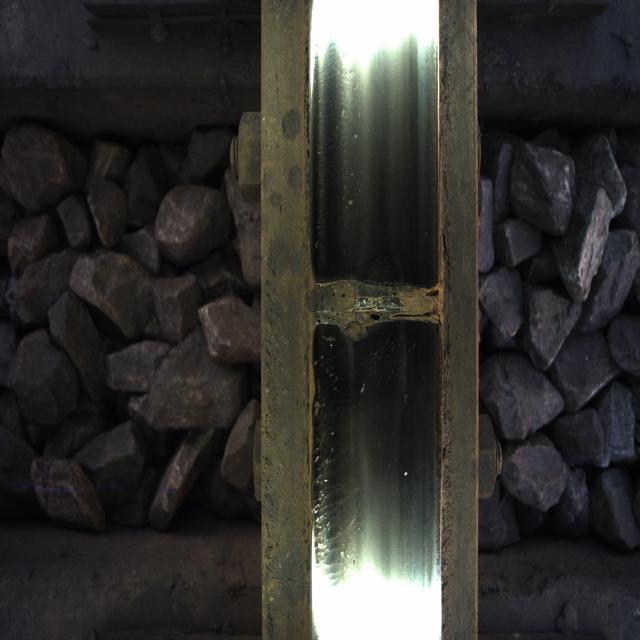spalling: (292, 238, 468, 368)
